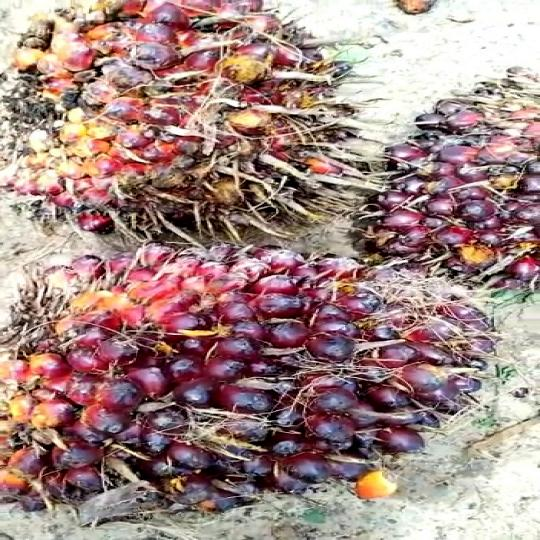masak: (0, 233, 506, 515), (0, 0, 353, 246), (351, 71, 540, 306)
